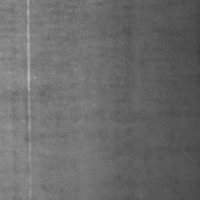scratches: (22, 1, 35, 186)
